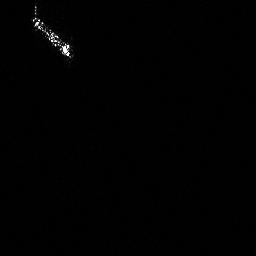ship: (30, 4, 75, 60)
